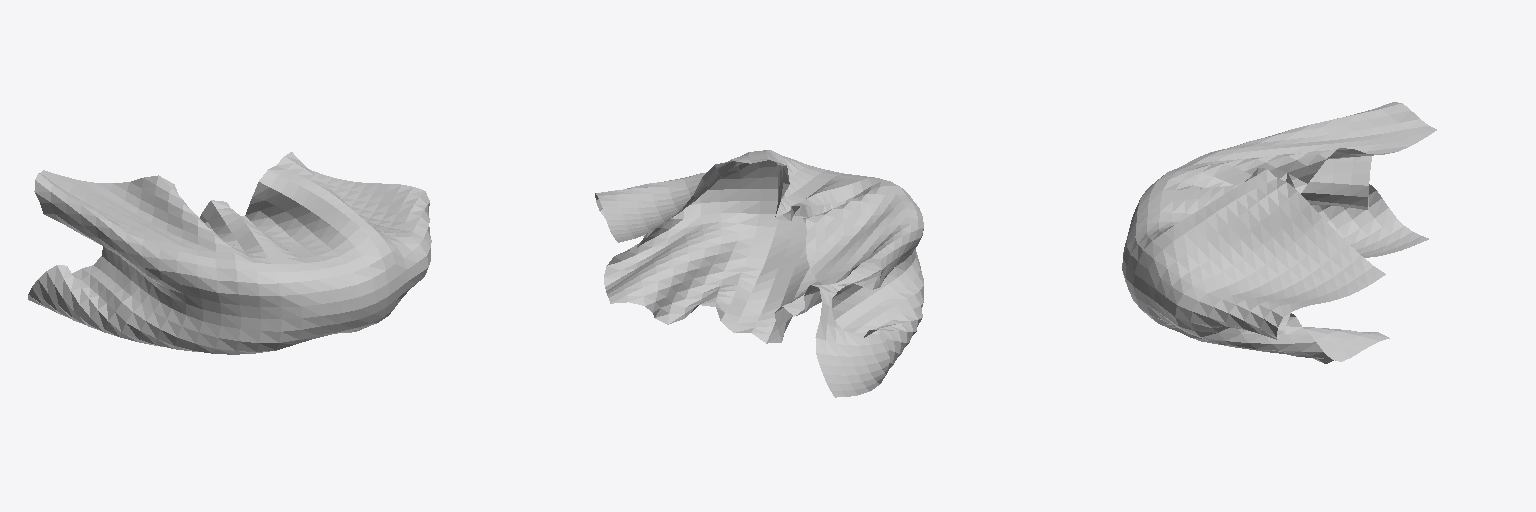
The model's file is am_corpse01.obj.
3 renders of one model, left to right at view 1: azimuth 30°, elevation 25°; view 2: azimuth 150°, elevation 25°; view 3: azimuth 270°, elevation 25°, orthographic.
Parts seen in each view (by area): view 1: am_corpse01; view 2: am_corpse01; view 3: am_corpse01.
Boxes of the visible parts, x1=… form: am_corpse01: x1=28, y1=152, x2=431, y2=354; am_corpse01: x1=595, y1=150, x2=923, y2=397; am_corpse01: x1=1122, y1=102, x2=1436, y2=363.
Size of the model in its own units: 90.58 by 44.86 by 71.42.